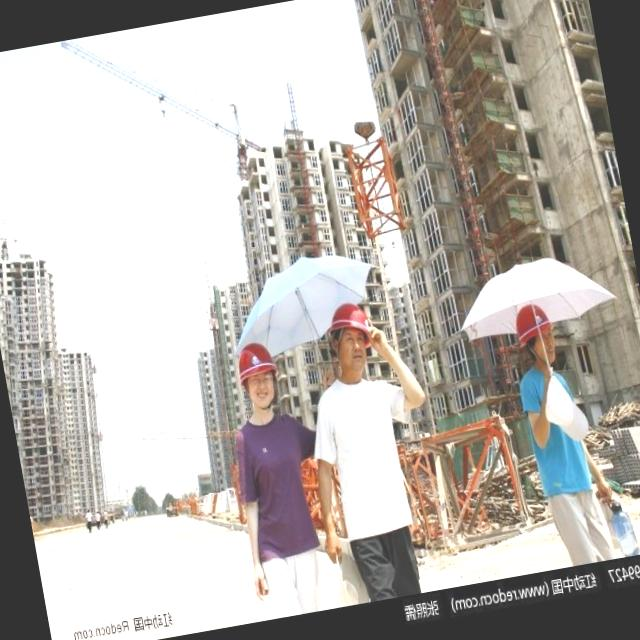helmet: (324, 298, 380, 359), (229, 335, 284, 394), (508, 299, 559, 358)
no-vest: (308, 358, 413, 527), (228, 399, 322, 554), (515, 347, 595, 493)
